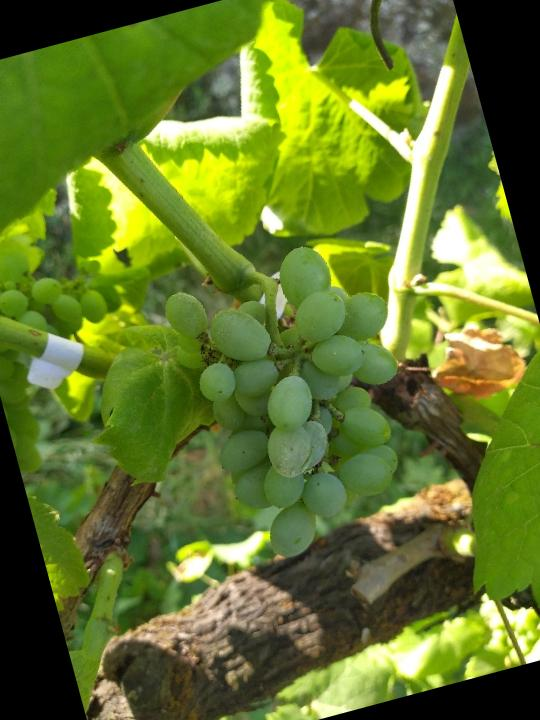grape: (154, 228, 448, 578)
